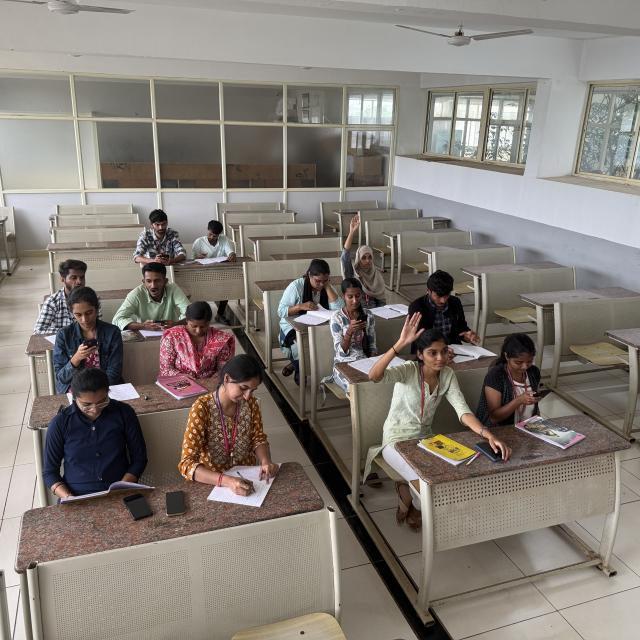Hand Rising: (368, 312, 461, 432), (340, 214, 392, 298)
Reading: (48, 377, 158, 505), (281, 258, 344, 327), (185, 213, 243, 278)
Using Phone: (53, 285, 128, 384), (484, 330, 560, 418), (161, 301, 237, 387), (117, 262, 188, 335), (326, 278, 376, 358), (132, 206, 189, 266)
Writing: (178, 355, 277, 500), (421, 264, 497, 358)
